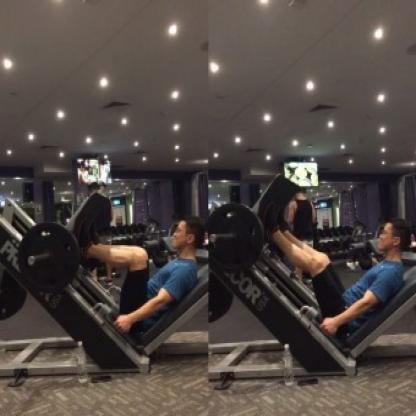leg press: (1, 146, 211, 416), (214, 147, 416, 416)
